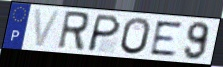9: (181, 20, 211, 62)
E: (149, 20, 184, 57)
O: (119, 16, 153, 56)
P: (85, 13, 123, 54)
R: (55, 9, 91, 53)
V: (33, 8, 62, 49)
